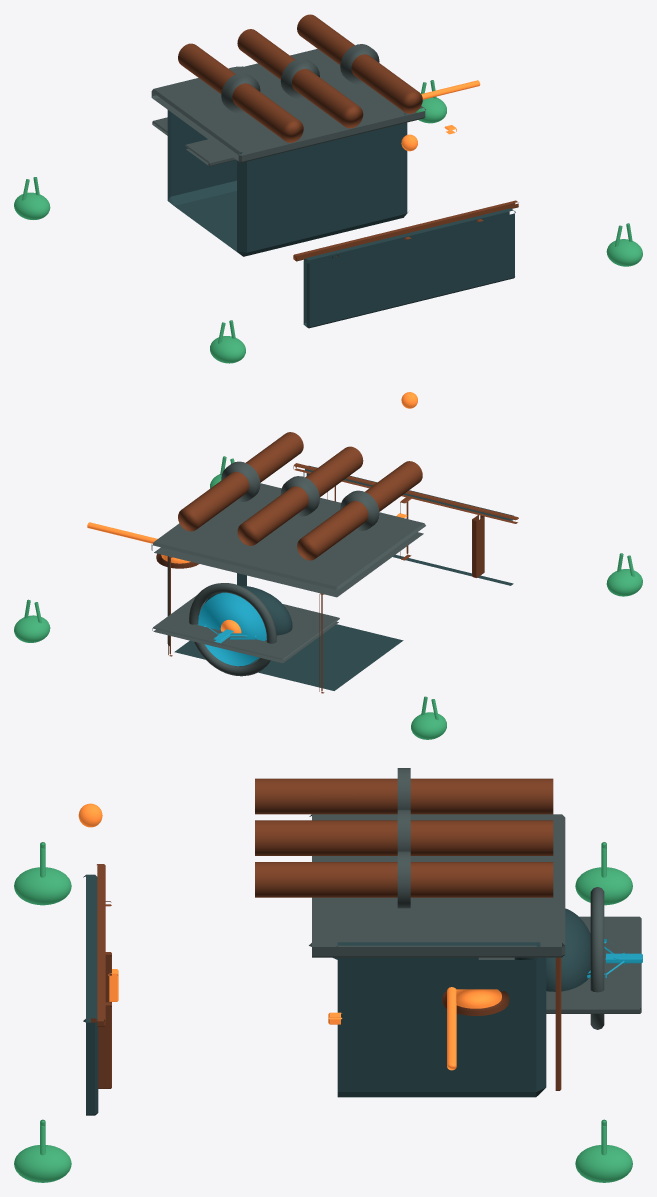
File: riverworks.gltf
3 views of the same model, one above another, from view 1: azimuth 30°, elevation 25°; view 2: azimuth 150°, elevation 25°; view 3: azimuth 270°, elevation 25° (orthographic). The views are drawn at different scales.
Visible parts, largest first — view 1: RiverworksPumpHousing, RiverworksSluiceGate, RiverworksPumpHousingCap, RiverworksPipe2, RiverworksPipe0, RiverworksPipe1, RiverworksSluiceRail, RiverworksPumpPanel, RiverworksGrowth0, RiverworksGrowth1, RiverworksGrowth2, RiverworksPipeCollar0 (+3 smaller); view 2: RiverworksPumpHousingCap, RiverworksPumpHousing, RiverworksPumpPanel, RiverworksPipe1, RiverworksPipe2, RiverworksPipe0, RiverworksRotor, RiverworksPumpVoluteRing, RiverworksSluiceRail, RiverworksSluiceGate, RiverworksPump, RiverworksGrowth2 (+6 smaller); view 3: RiverworksPumpHousing, RiverworksPumpHousingCap, RiverworksPipe0, RiverworksPipe1, RiverworksPipe2, RiverworksPumpPanel, RiverworksSluiceGate, RiverworksPump, RiverworksPumpVoluteRing, RiverworksGrowth0, RiverworksGrowth1, RiverworksGrowth3 (+10 smaller).
Boxes of the visible parts, x1,y1,x2,y2 form: RiverworksPumpHousing: (167, 110, 407, 256); RiverworksSluiceGate: (303, 208, 515, 328); RiverworksPumpHousingCap: (151, 49, 425, 162); RiverworksPipe2: (297, 14, 422, 113); RiverworksPipe0: (178, 43, 303, 142); RiverworksPipe1: (237, 29, 363, 128); RiverworksSluiceRail: (293, 200, 518, 261); RiverworksPumpPanel: (152, 117, 235, 166); RiverworksGrowth0: (210, 336, 245, 363); RiverworksGrowth1: (606, 239, 642, 266); RiverworksGrowth2: (14, 192, 50, 219); RiverworksPipeCollar0: (221, 73, 260, 113); RiverworksPumpHousingCap: (151, 483, 425, 597); RiverworksPumpHousing: (167, 556, 403, 690); RiverworksPumpPanel: (152, 595, 339, 663); RiverworksPipe1: (237, 446, 363, 545); RiverworksPipe2: (178, 432, 303, 531); RiverworksPipe0: (297, 461, 422, 560); RiverworksRotor: (198, 592, 266, 666); RiverworksPumpVoluteRing: (189, 583, 276, 676); RiverworksSluiceRail: (293, 463, 518, 523); RiverworksSluiceGate: (303, 465, 513, 585); RiverworksPump: (205, 585, 292, 635); RiverworksGrowth2: (411, 712, 446, 739); RiverworksPumpHousing: (333, 942, 546, 1097); RiverworksPumpHousingCap: (309, 814, 565, 957); RiverworksPipe0: (255, 778, 553, 814); RiverworksPipe1: (255, 820, 553, 855); RiverworksPipe2: (255, 862, 553, 897); RiverworksPumpPanel: (478, 916, 641, 1013); RiverworksSluiceGate: (83, 874, 98, 1115); RiverworksPump: (514, 908, 590, 991); RiverworksPumpVoluteRing: (590, 887, 604, 1029); RiverworksGrowth0: (14, 867, 71, 905); RiverworksGrowth1: (14, 1145, 71, 1182); RiverworksGrowth3: (575, 1145, 632, 1182).
Size of the model in its own units: 11.84 by 4.42 by 10.53.
